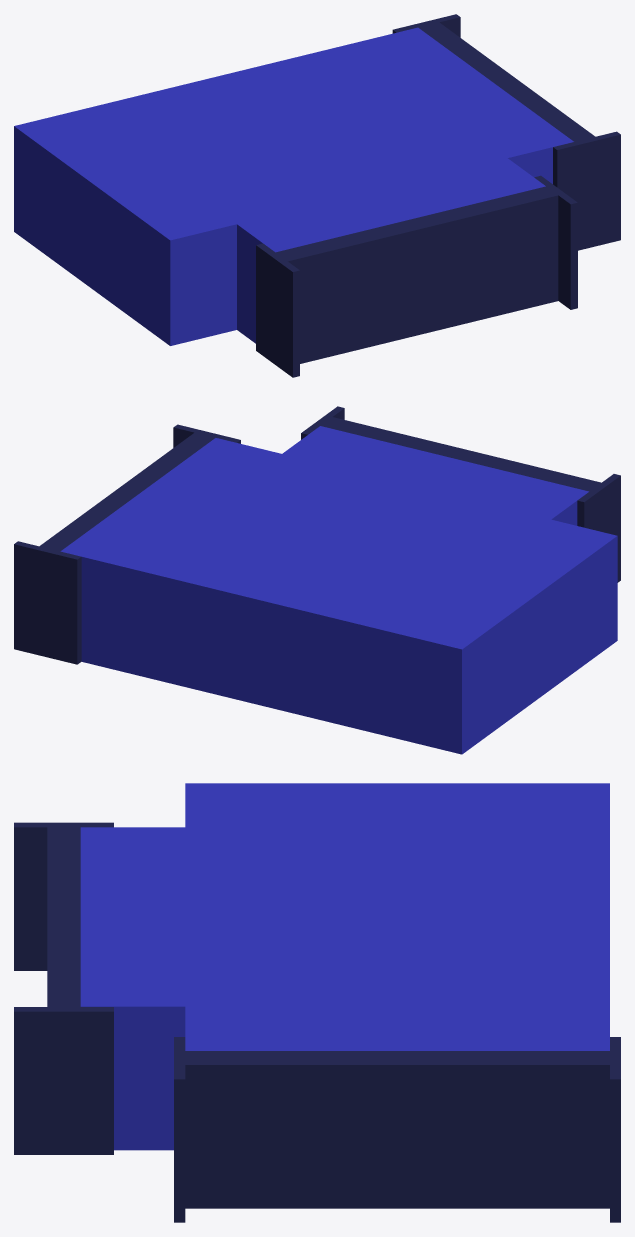
File: receptor-block.glb
3 renders of one model, top to bottom at view 1: azimuth 30°, elevation 25°; view 2: azimuth 150°, elevation 25°; view 3: azimuth 270°, elevation 25°, orthographic. The views are drawn at different scales.
Visible parts, largest first — view 1: body, connector.001, body.001, connector.002; view 2: body, connector.002, body.001, connector.001; view 3: body, connector.002, body.001, connector.001.
Boxes of the visible parts, x1,y1,x2,y2 form: body: (14, 27, 573, 345); connector.001: (256, 175, 577, 377); body.001: (237, 158, 545, 343); connector.002: (392, 14, 620, 250); body: (60, 438, 617, 754); connector.002: (14, 424, 240, 664); body.001: (282, 426, 588, 525); connector.001: (301, 406, 620, 582); body: (185, 783, 609, 1050); connector.002: (174, 1037, 620, 1222); body.001: (80, 827, 185, 1150); connector.001: (14, 822, 113, 1154).
Bounding box in the file's own units: 0.21 × 0.0475 × 0.182.
